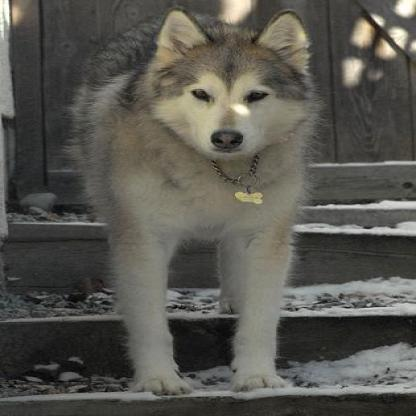malamute: (61, 6, 322, 395)
